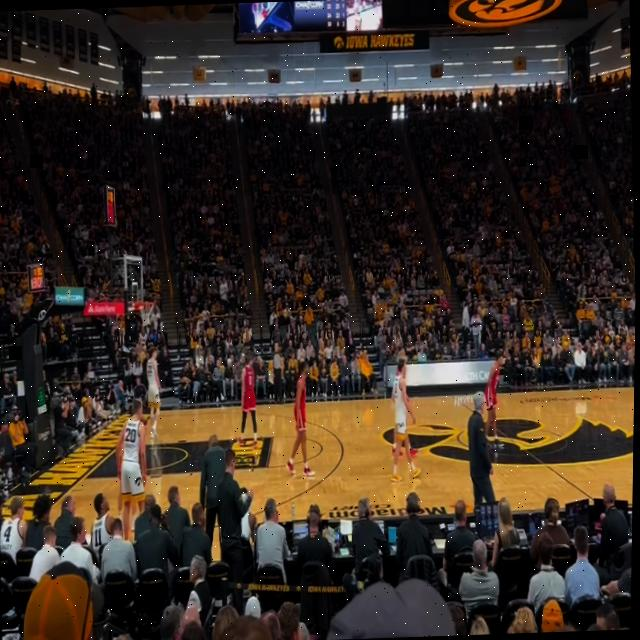basket: (138, 302, 156, 326)
game clock: (33, 266, 42, 276)
head coach: (466, 390, 498, 512)
player-iowa: (114, 399, 151, 541), (388, 358, 424, 483), (145, 346, 164, 444)
player-neb: (282, 360, 319, 478), (115, 417, 152, 532), (390, 352, 421, 458), (236, 354, 261, 450), (482, 353, 506, 449)
referee: (272, 342, 287, 404)
shot clock: (34, 276, 42, 288)
